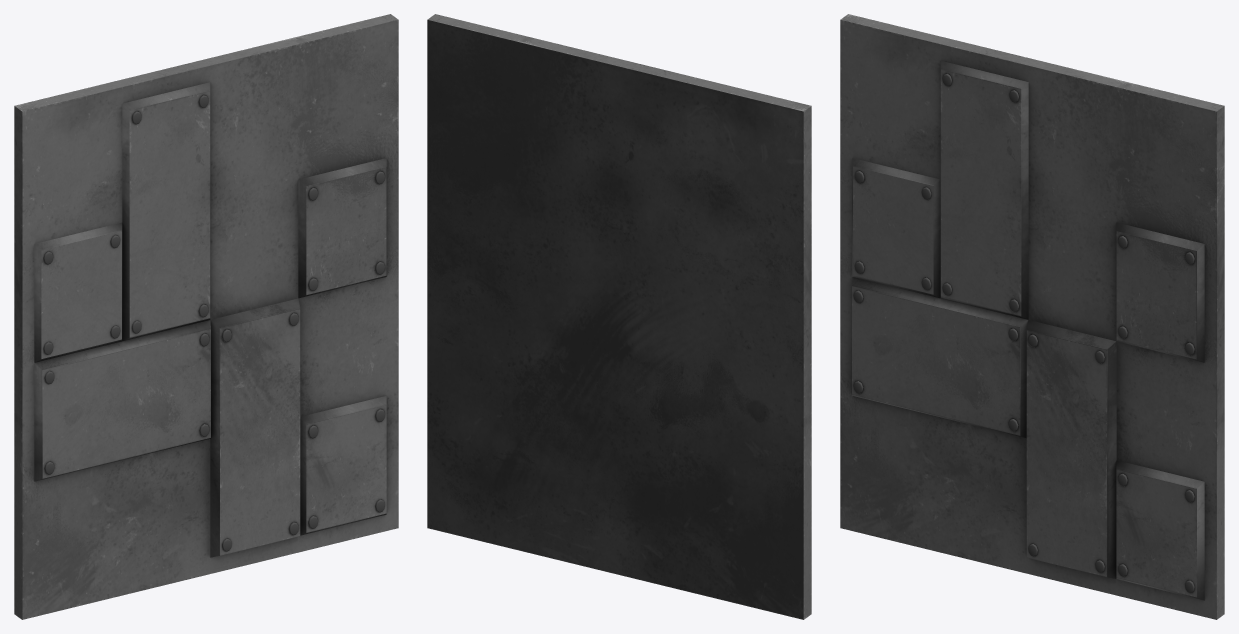
File: MetalPanel.fbx
The picture shows the model from 3 angles, left to right: view 1: azimuth 30°, elevation 25°; view 2: azimuth 150°, elevation 25°; view 3: azimuth 330°, elevation 25°; orthographic projection.
Visible parts, largest first — view 1: MetalPanel; view 2: MetalPanel; view 3: MetalPanel.
Boxes of the visible parts, x1=… form: MetalPanel: x1=14, y1=14, x2=398, y2=619; MetalPanel: x1=427, y1=14, x2=811, y2=619; MetalPanel: x1=840, y1=14, x2=1224, y2=619.
Size of the model in its own units: 260 by 17.4 by 335.
2 materials, 1 textured.
